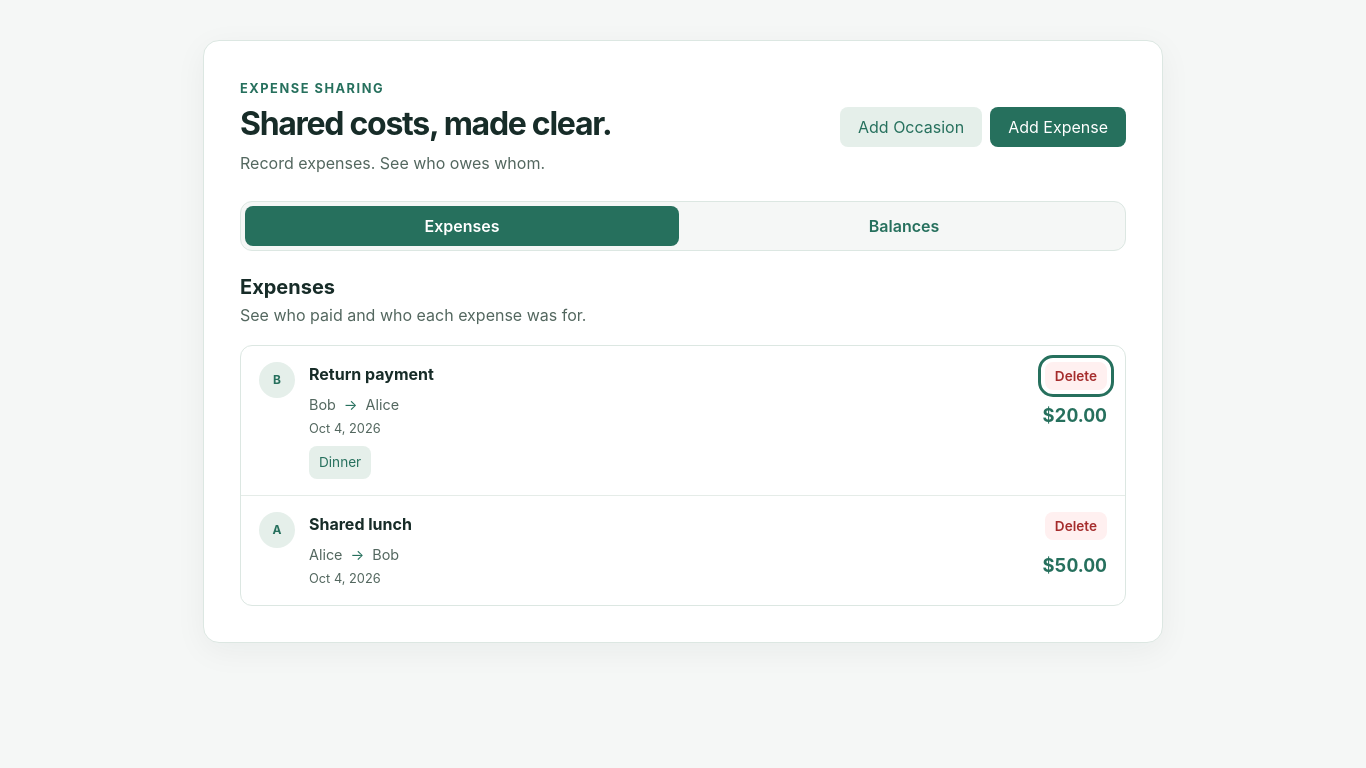
Test: deletes only the selected expense and refreshes balances (previously opened: false)
Check: the list named "Expenses" is shown, box 240,345 -> 1126,606
Click the button with aria-label "Delete expense: Return payment ($20.00)": (1076,376) 1045,362 -> 1107,390
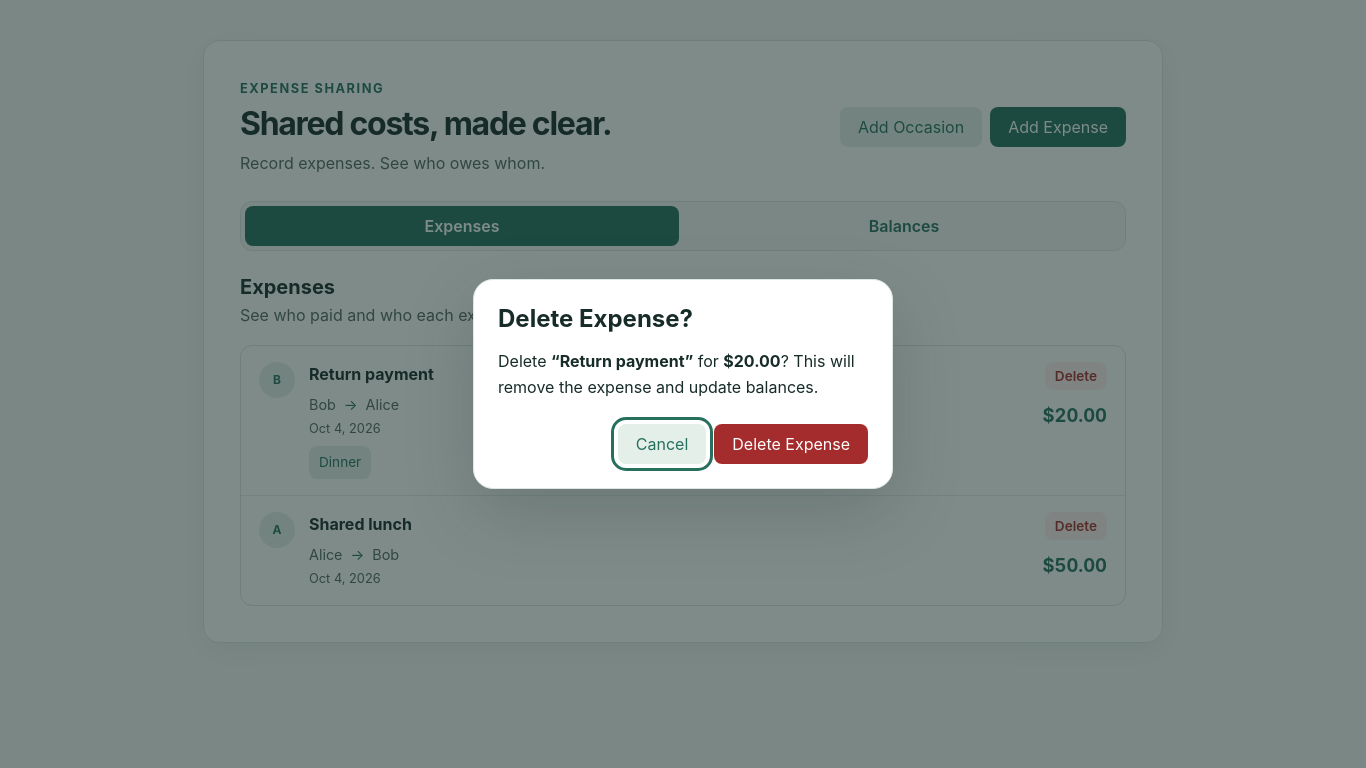
Click the button "Delete Expense": (791,444) 714,424 -> 868,464
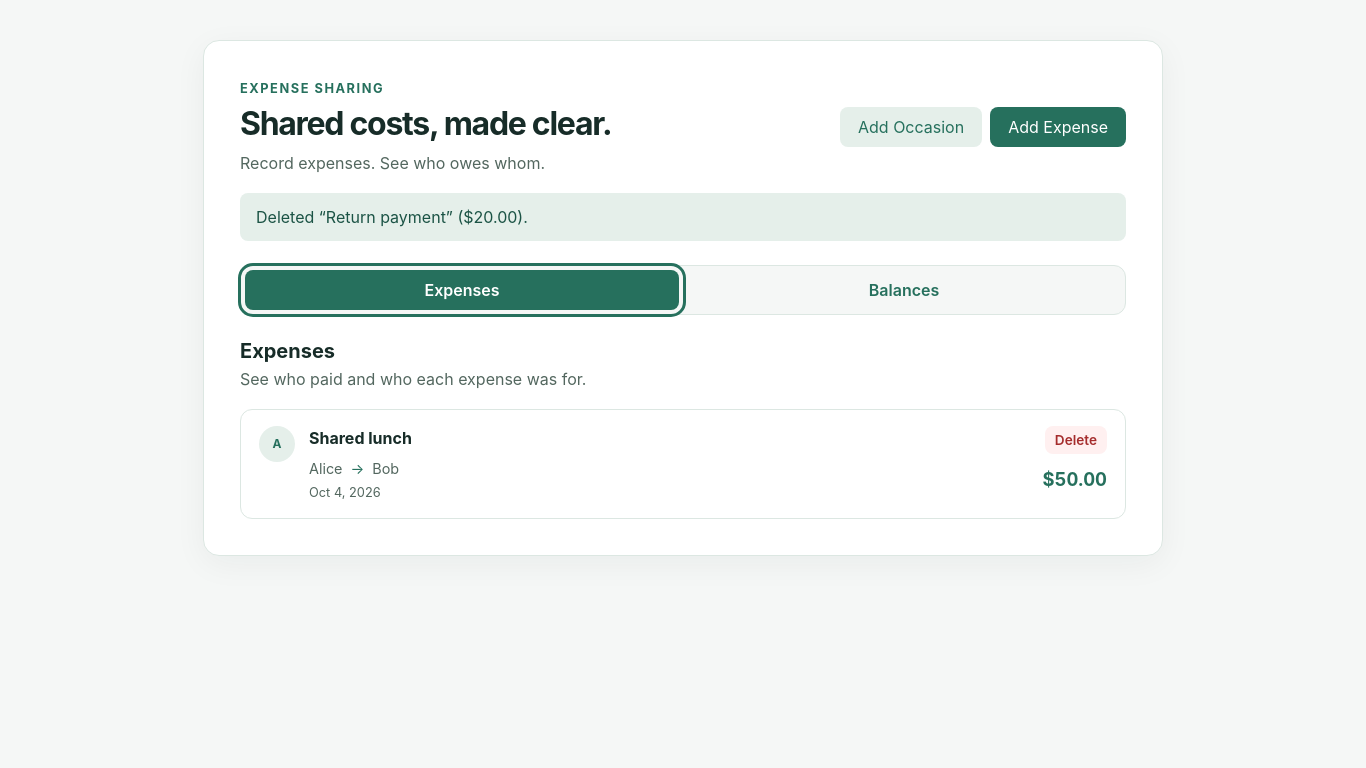
Check: the heading "Shared lunch" is shown, box 309,426 -> 412,450
Check: the dialog is gone
Check: the text "Deleted “Return payment” ($20.00)." is shown, box 240,193 -> 1126,241
Click the tab "Balances": (904,290) 687,270 -> 1121,310
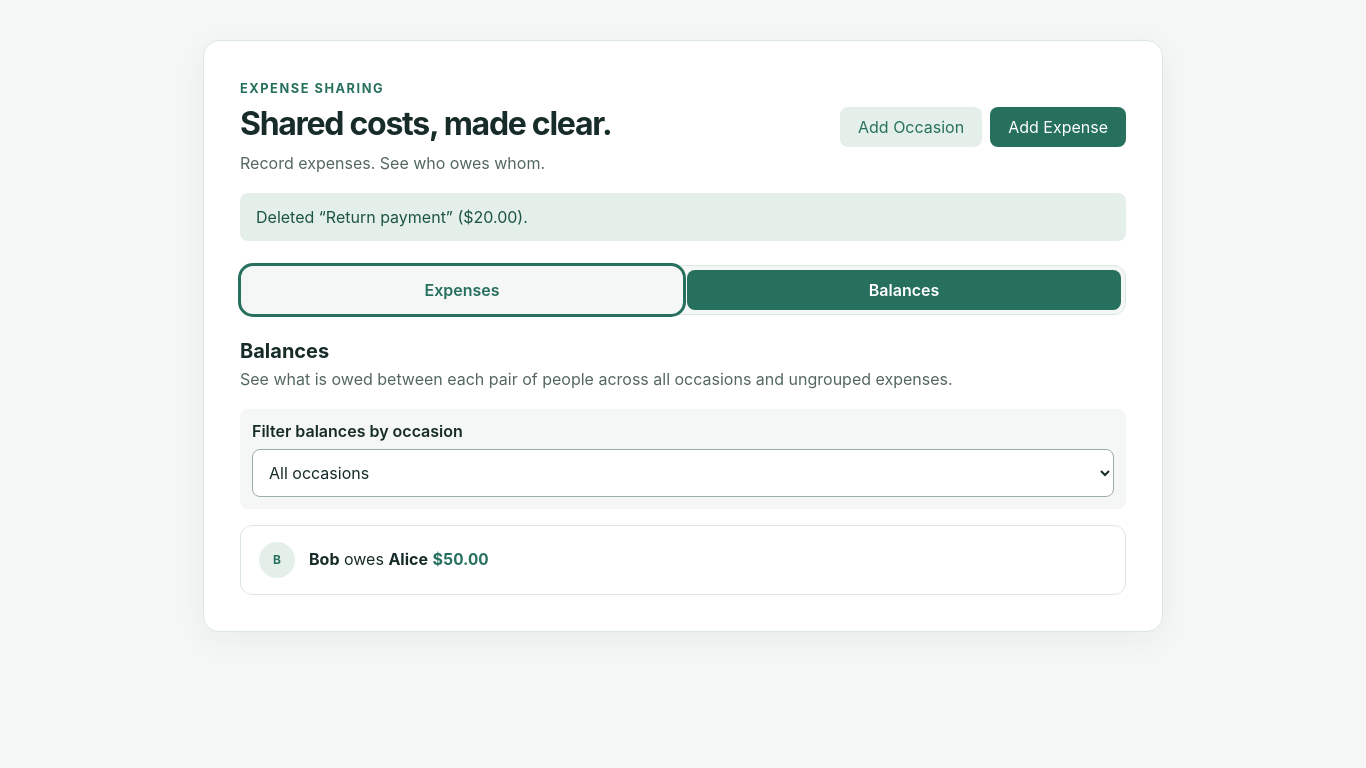
Check: the list named "Balances" reads "Bob owes Alice $50.00", box 240,525 -> 1126,595
